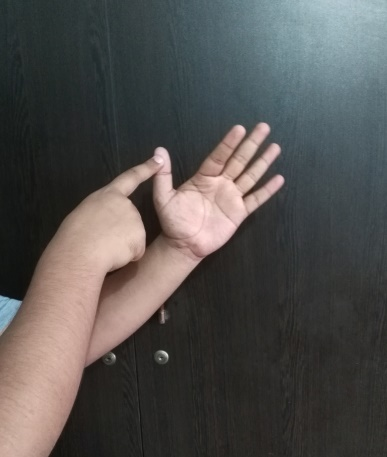a: (98, 121, 288, 276)
